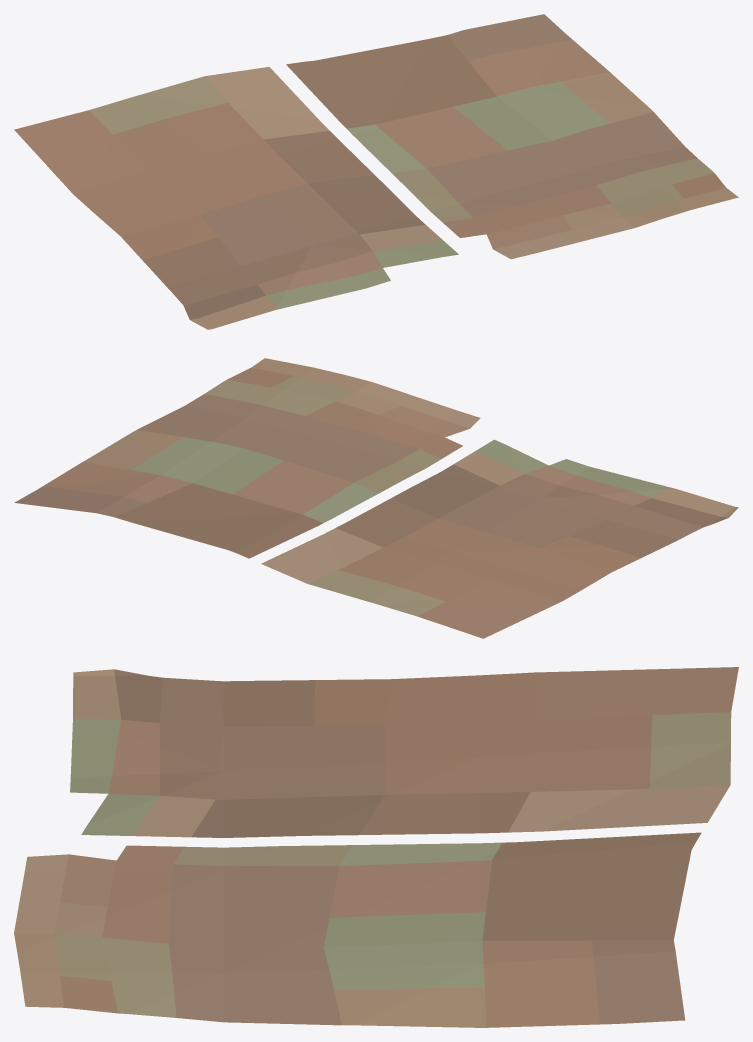
File: farm_-7_9_soil.glb
3 views of the same model, one above another, from view 1: azimuth 30°, elevation 25°; view 2: azimuth 150°, elevation 25°; view 3: azimuth 270°, elevation 25° (orthographic). The views are drawn at different scales.
Visible parts, largest first — view 1: geometry_0; view 2: geometry_0; view 3: geometry_0.
Boxes of the visible parts, box(x1,y1,x2,y2) form: geometry_0: box(14, 14, 738, 329); geometry_0: box(14, 358, 738, 638); geometry_0: box(14, 667, 738, 1027).
Size of the model in its own units: 288 by 17.04 by 227.
